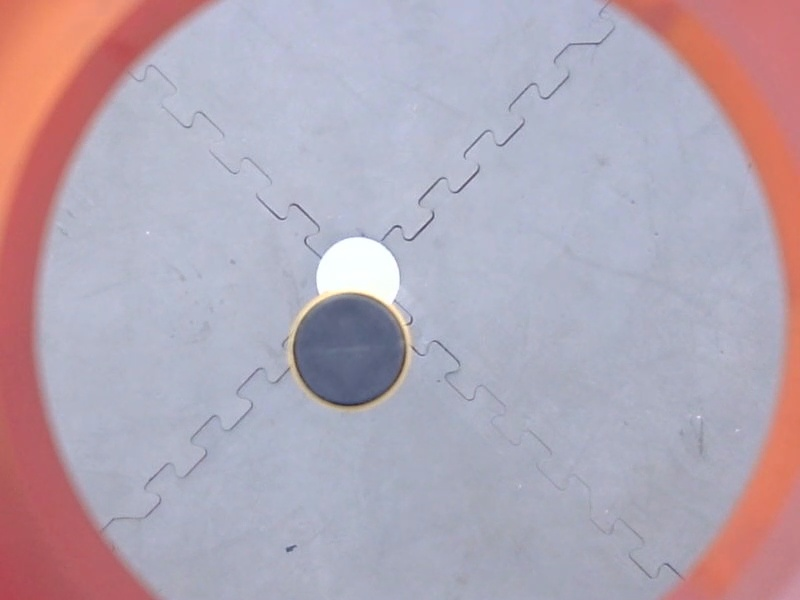tip: (282, 286, 416, 417)
